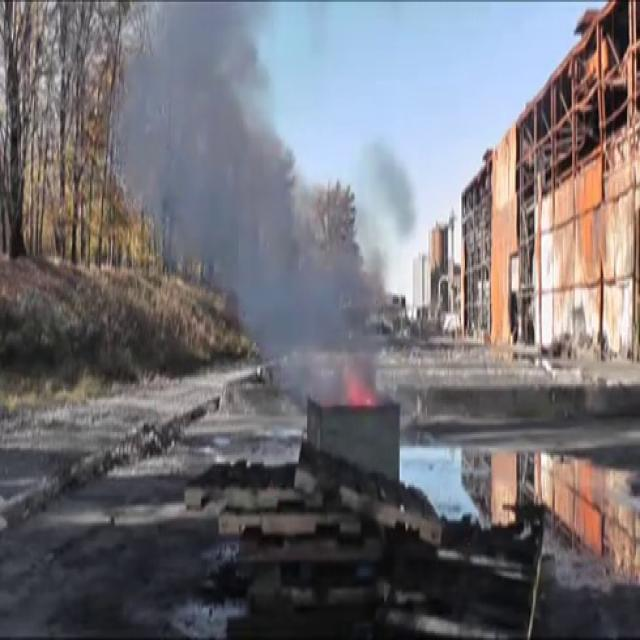Smoke: (106, 2, 413, 396)
